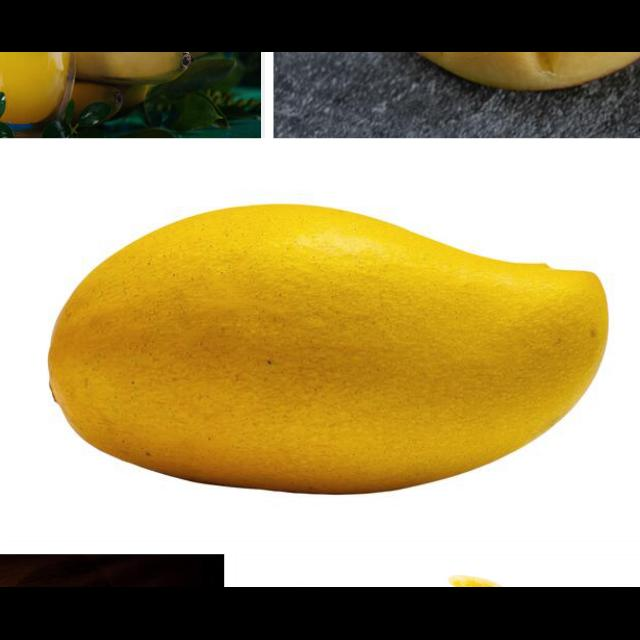mango: (44, 198, 610, 497)
